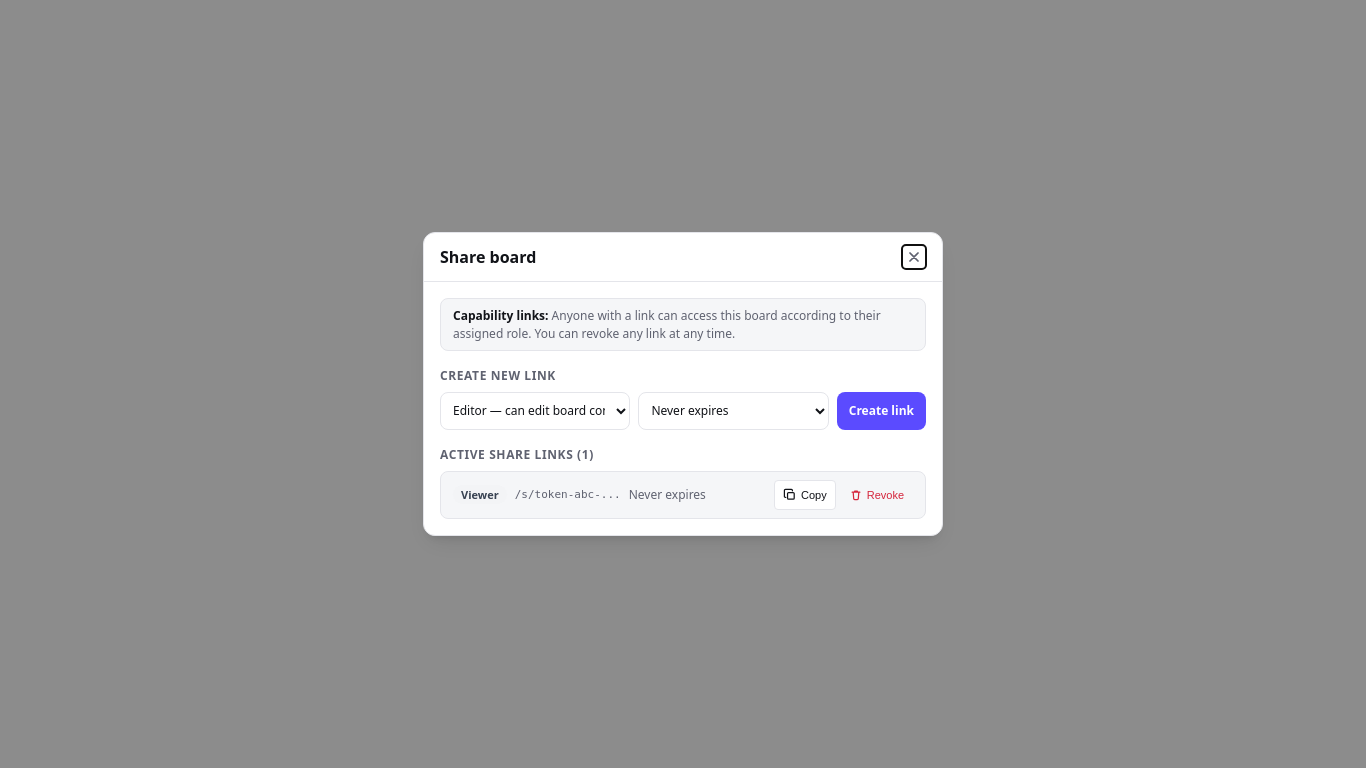
Test: Client Collaboration and Presence UI › ShareModal › copies link to clipboard and displays feedback
Step 1. Click the button with test id "copy-link-token-abc-456" → (805, 495), box [774,480,836,510]
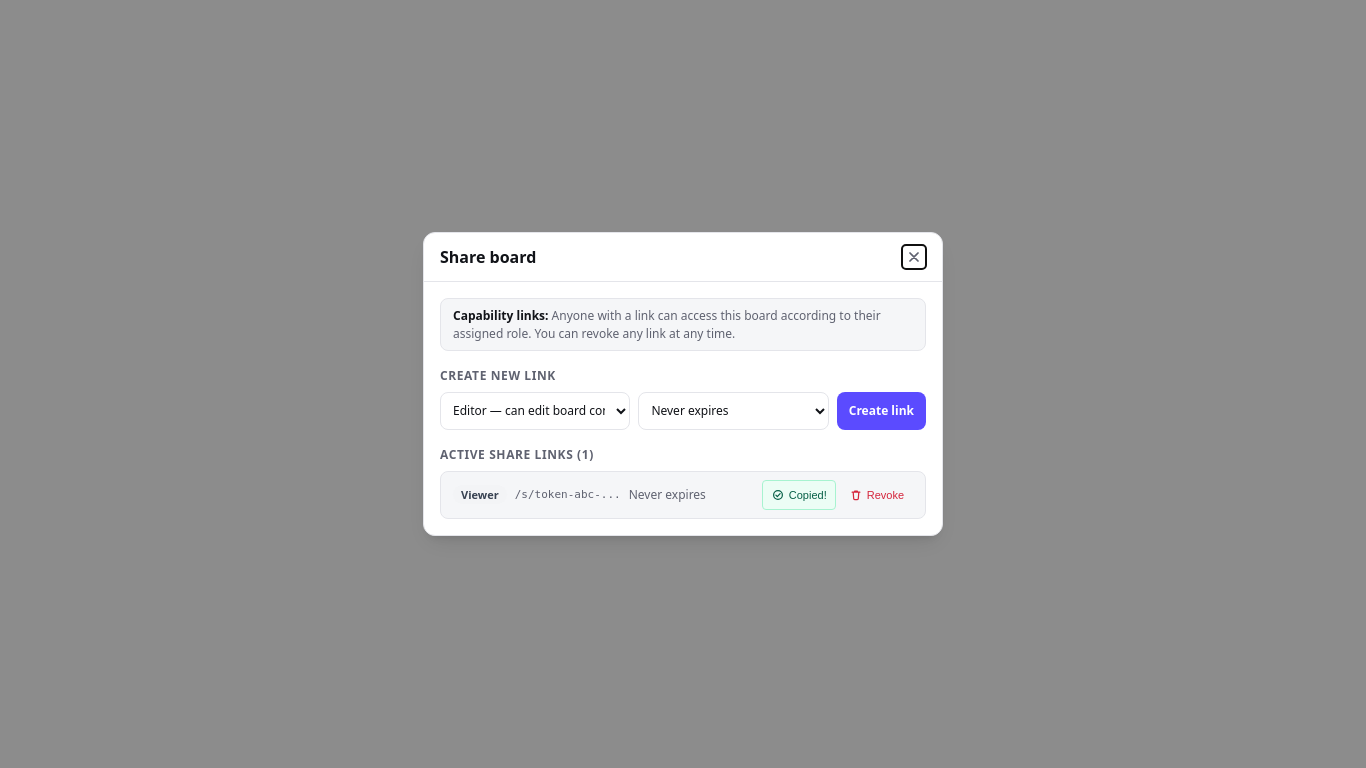
expect the button with test id "copy-link-token-abc-456" reads "Copied!": met, box [762,480,836,510]
